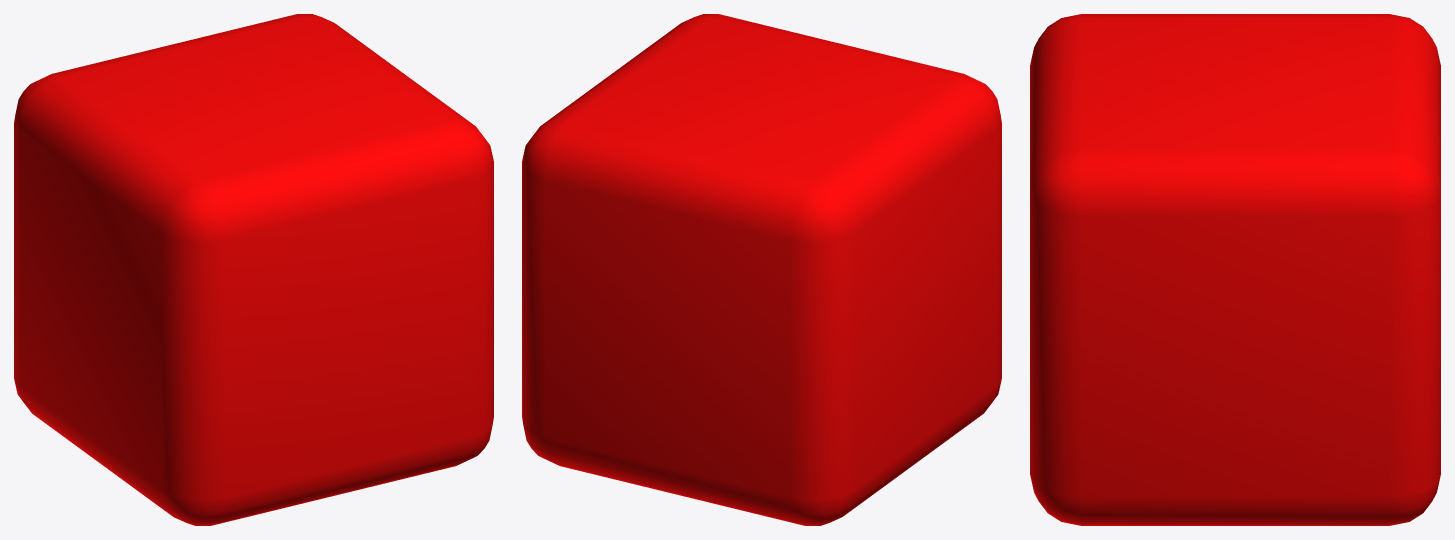
File: Dot Note.fbx
The picture shows the model from 3 angles, left to right: view 1: azimuth 30°, elevation 25°; view 2: azimuth 150°, elevation 25°; view 3: azimuth 270°, elevation 25°; orthographic projection. The views are drawn at different scales.
Visible parts, largest first — view 1: Cube; view 2: Cube; view 3: Cube.
Boxes of the visible parts, left/top/right/bottom form: Cube: left=14, top=14, right=493, bottom=525; Cube: left=522, top=14, right=1001, bottom=525; Cube: left=1030, top=14, right=1440, bottom=525.
Bounding box in the file's own units: 200 × 202 × 200.
